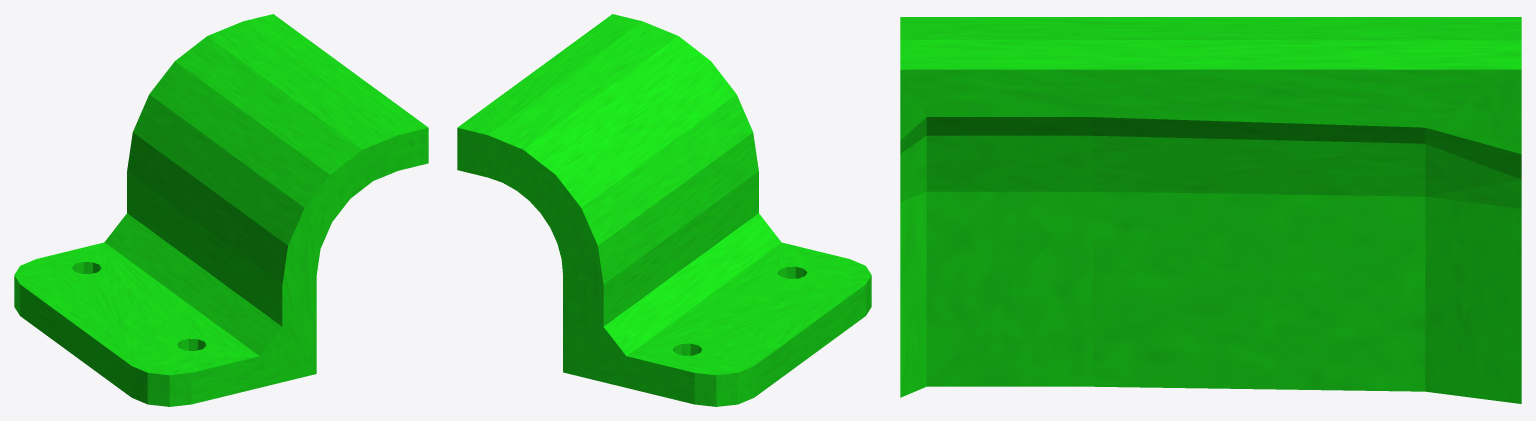
File: xtion_bracket_left.dae
3 renders of one model, left to right at view 1: azimuth 30°, elevation 25°; view 2: azimuth 150°, elevation 25°; view 3: azimuth 270°, elevation 25°, orthographic. The views are drawn at different scales.
Visible parts, largest first — view 1: node; view 2: node; view 3: node.
Part boxes in pixels (bbox=[...]): node: bbox=[14, 14, 428, 406]; node: bbox=[457, 14, 871, 406]; node: bbox=[900, 17, 1521, 403].
Size of the model in its own units: 36.3 by 27.6 by 35.5.
1 material, 1 textured.
